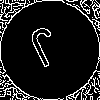J: (25, 25, 68, 77)
